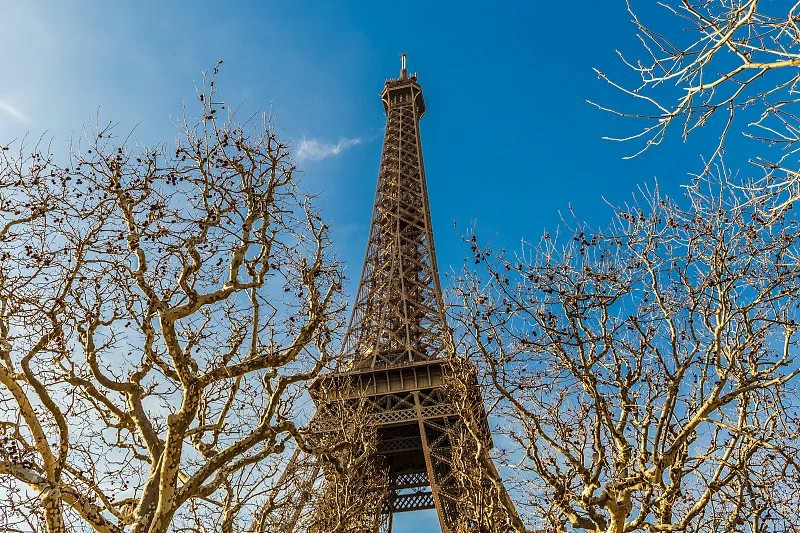Eiffel: (250, 53, 526, 533)
